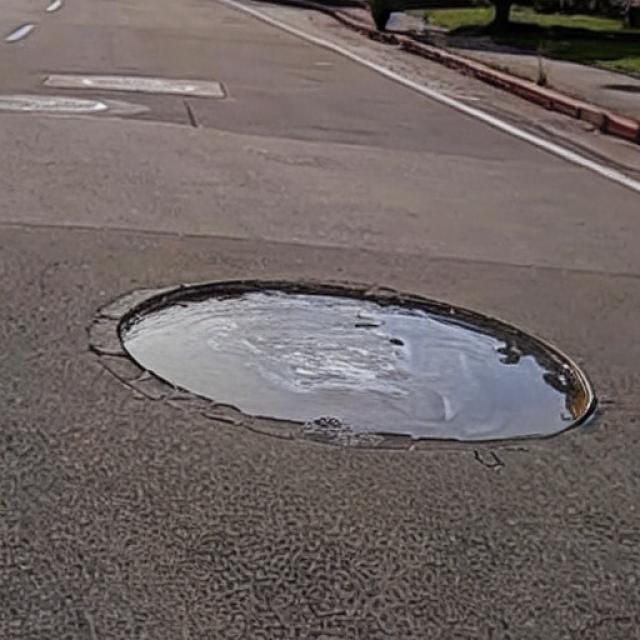puddle: (123, 280, 595, 442)
